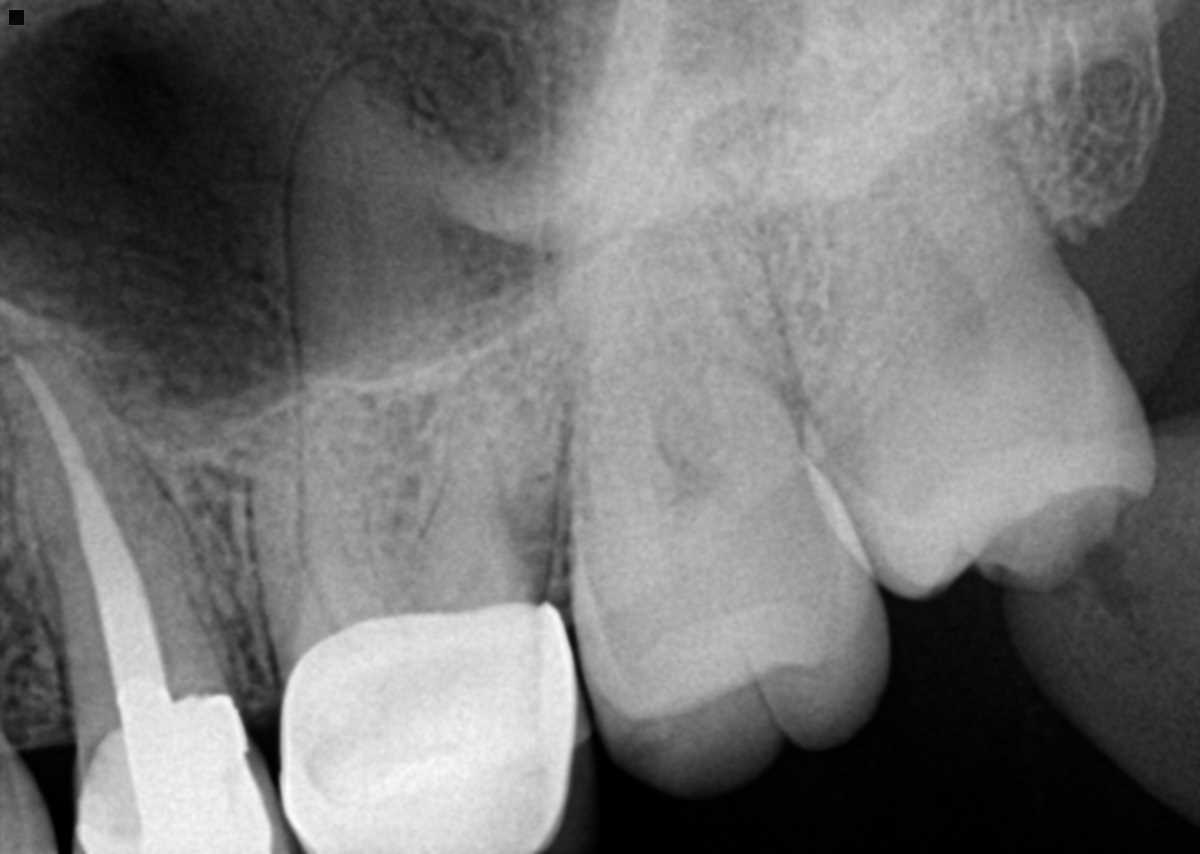Distal Root: (413, 347, 568, 599)
Main Root: (766, 0, 1053, 414), (0, 346, 231, 720), (568, 177, 794, 526)
Mesial Root: (243, 383, 391, 662)
Palatal Canal: (340, 108, 397, 383)
Palatal Root: (287, 56, 537, 659), (542, 53, 795, 487)
Root Canal Filling: (19, 359, 170, 709)
